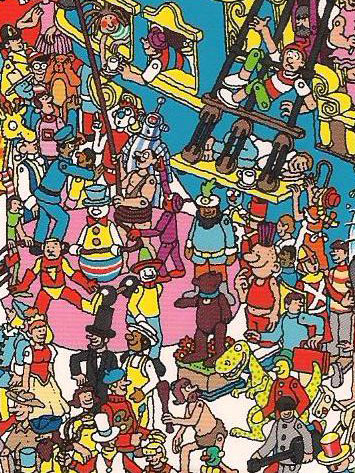waldo: (26, 48, 49, 83)
